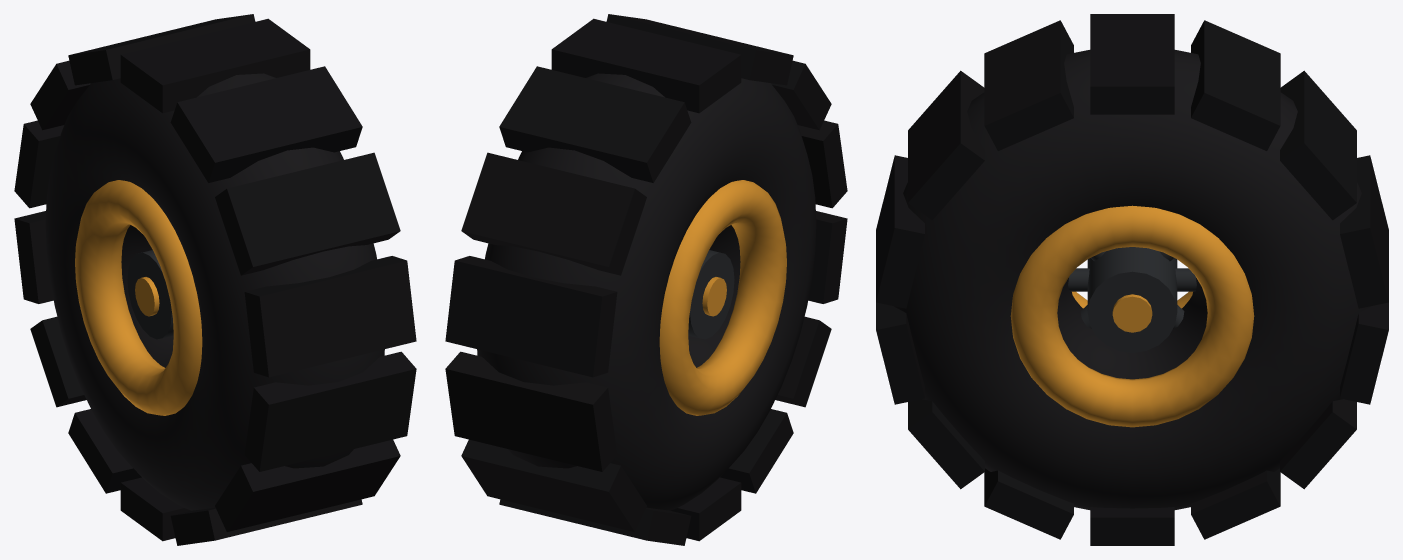
The model's file is A027-NL01_NIULAI-fr-01-of-01.glb.
3 renders of one model, left to right at view 1: azimuth 30°, elevation 25°; view 2: azimuth 150°, elevation 25°; view 3: azimuth 270°, elevation 25°, orthographic.
Visible parts, largest first — view 1: NL01_NIULAI_Wheel_FR_Part_01; view 2: NL01_NIULAI_Wheel_FR_Part_01; view 3: NL01_NIULAI_Wheel_FR_Part_01.
Part boxes in pixels (x1,y1,x2,y2): NL01_NIULAI_Wheel_FR_Part_01: [14, 14, 416, 545]; NL01_NIULAI_Wheel_FR_Part_01: [445, 14, 847, 545]; NL01_NIULAI_Wheel_FR_Part_01: [876, 14, 1388, 545].
Size of the model in its own units: 0.3965 by 0.9881 by 1.
